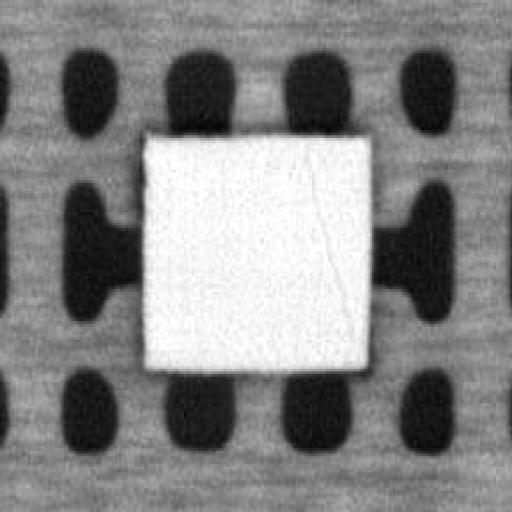DIE_CRACK: (306, 156, 352, 337)
